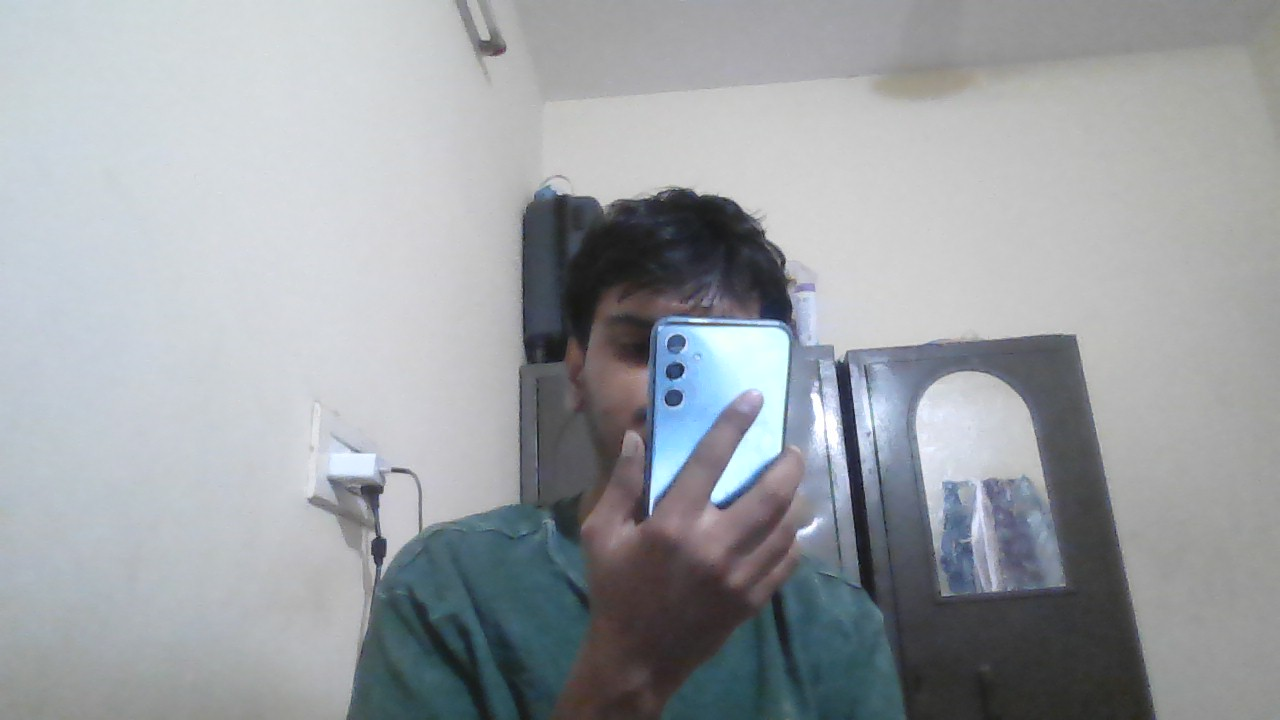phone: (655, 317, 790, 415)
